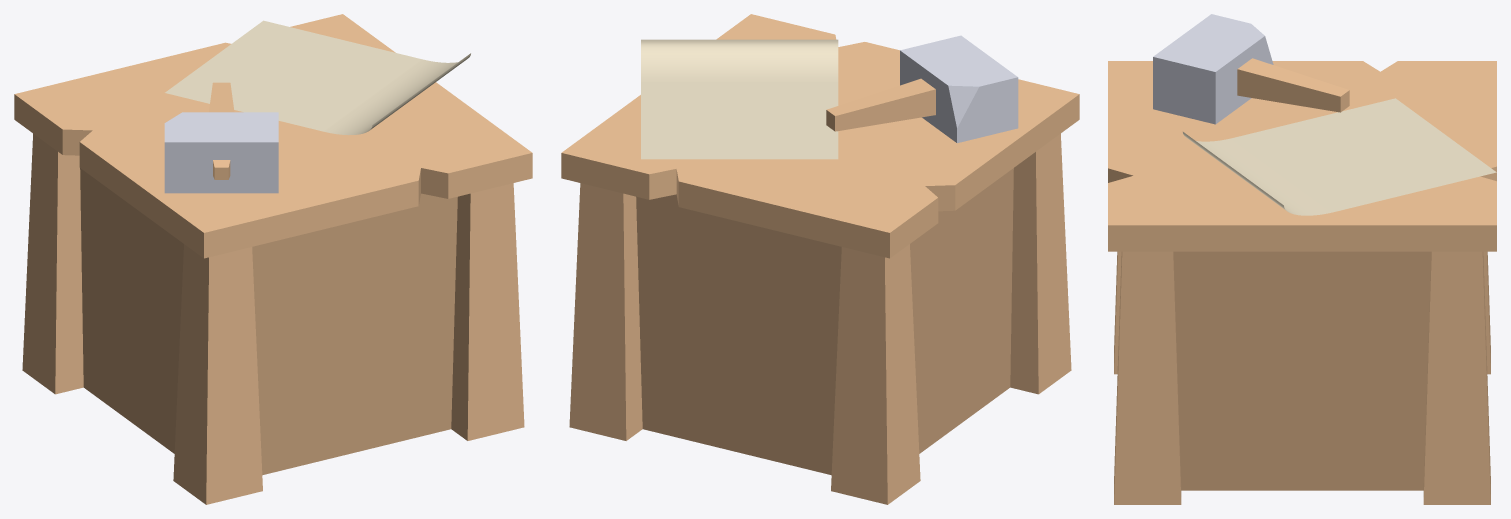
3 views of the same model, side by side, from view 1: azimuth 30°, elevation 25°; view 2: azimuth 150°, elevation 25°; view 3: azimuth 270°, elevation 25° (orthographic). The views are drawn at different scales.
Visible parts, largest first — view 1: workbench, paper, hammer; view 2: workbench, paper, hammer; view 3: workbench, paper, hammer.
Part boxes in pixels (box(x1,y1,x2,y2)): workbench: box(14, 14, 532, 504); paper: box(165, 20, 470, 135); hammer: box(164, 82, 278, 193); workbench: box(561, 14, 1079, 504); paper: box(641, 39, 838, 159); hammer: box(826, 35, 1018, 143); workbench: box(1108, 61, 1496, 504); paper: box(1183, 98, 1496, 215); hammer: box(1153, 14, 1349, 124).
Size of the model in its own units: 0.2888 by 0.2553 by 0.2688.
